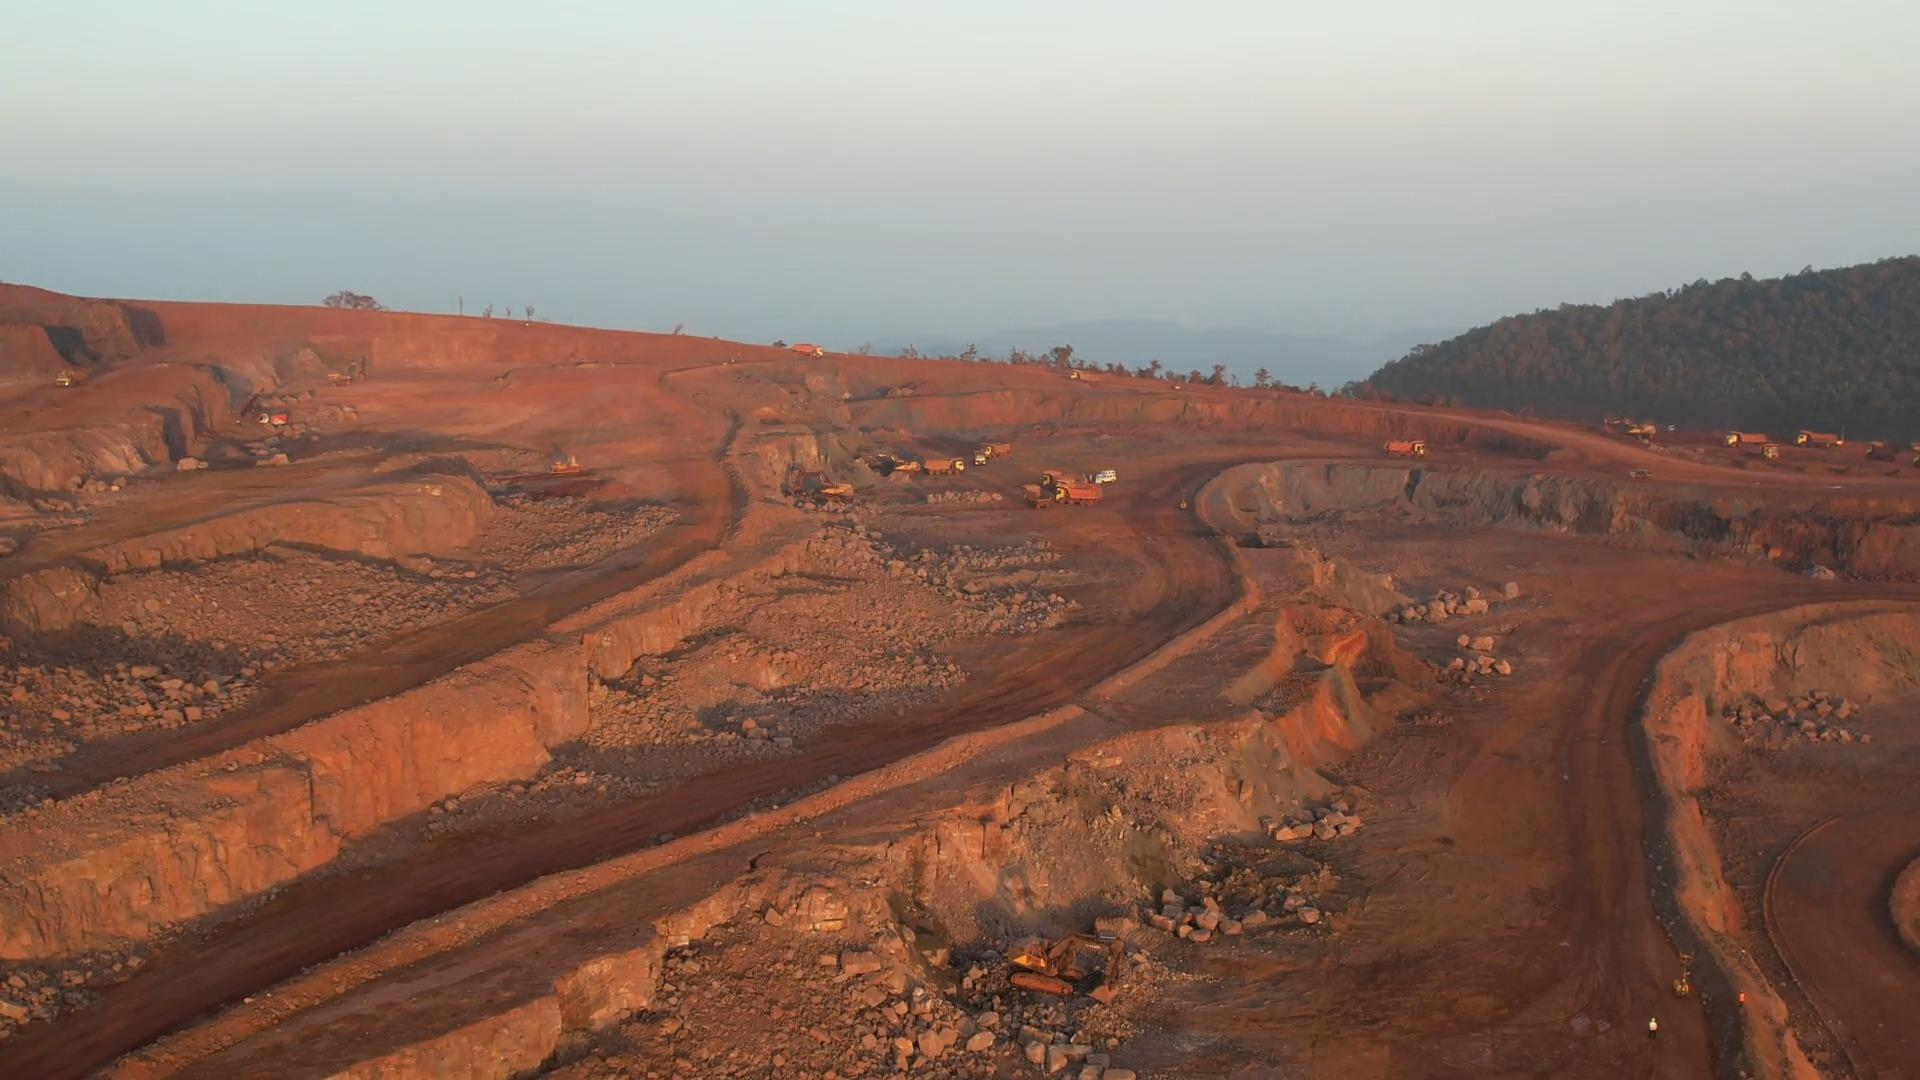excavator: (1009, 930, 1124, 1009)
